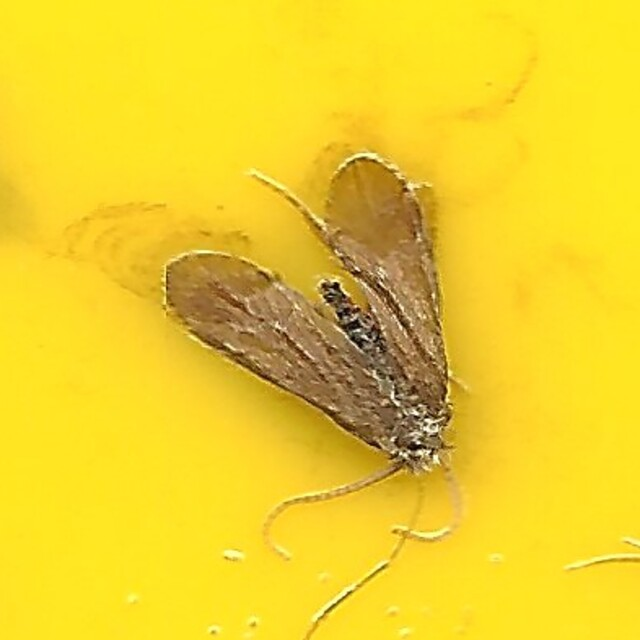Trichoptera: (163, 152, 477, 488)
